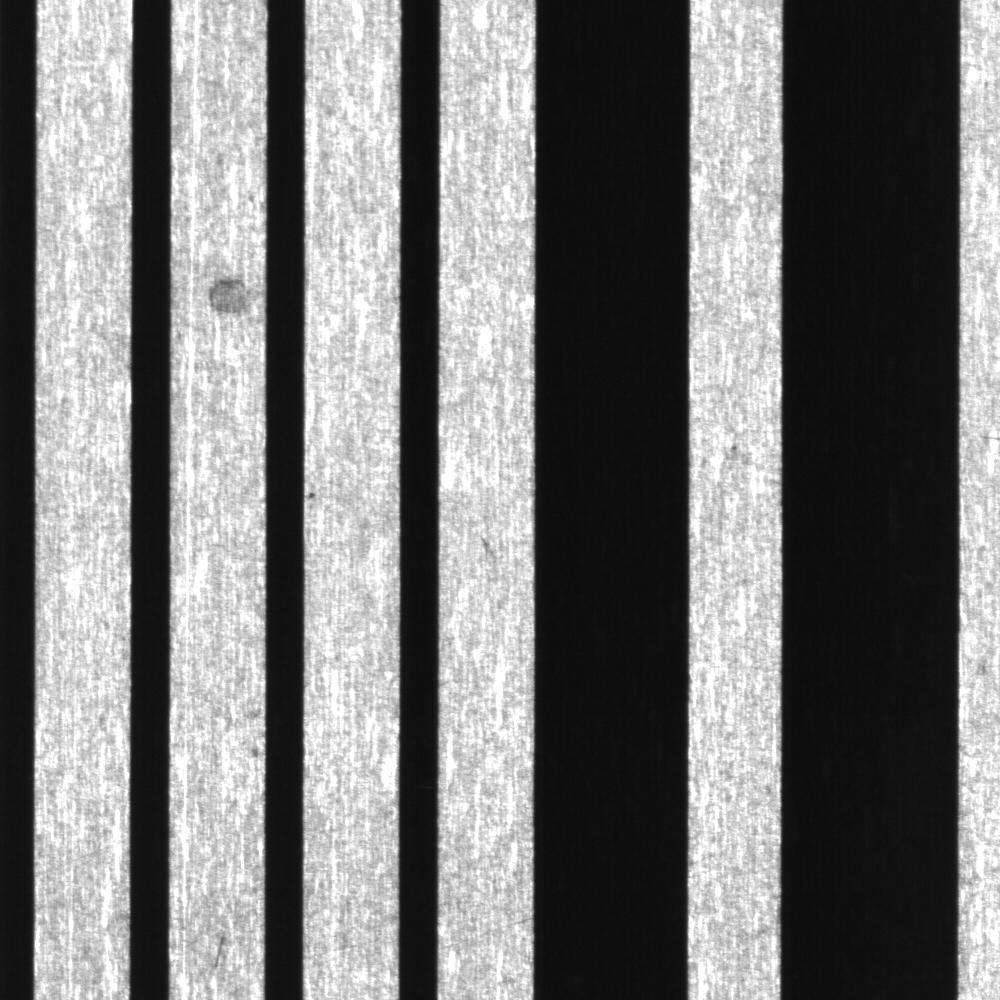Discolor: (203, 267, 262, 321)
Etching: (301, 476, 327, 506), (721, 434, 747, 461)
Scar: (440, 904, 532, 953), (199, 919, 242, 984)
